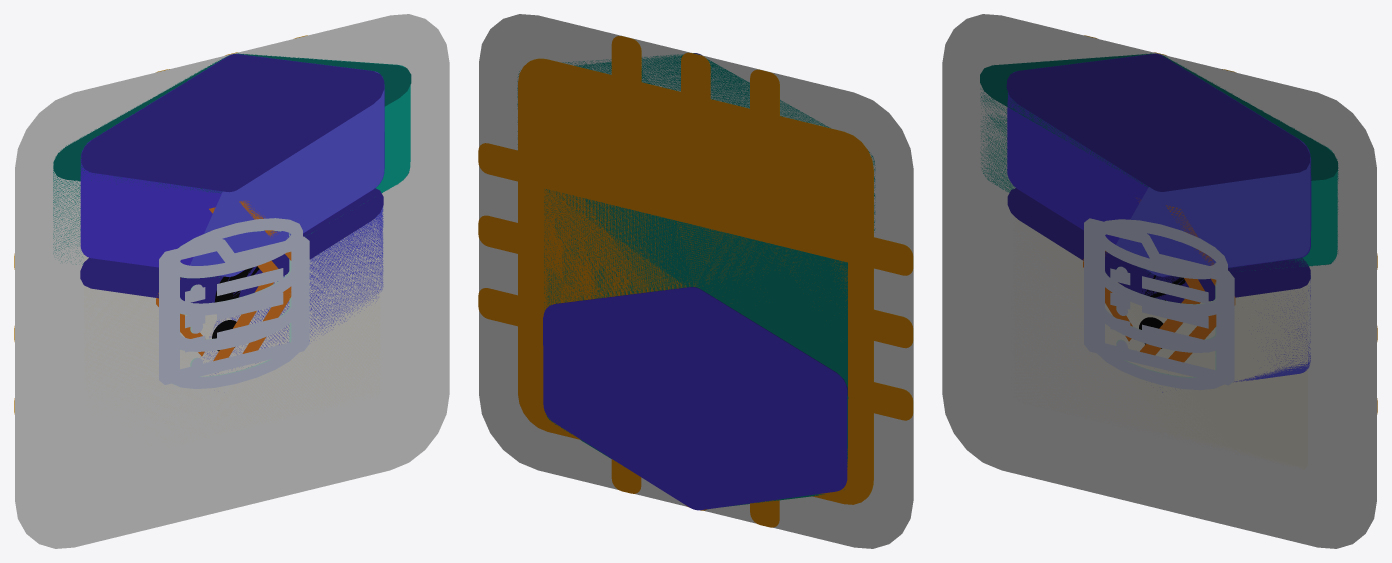
Rendered from icons.glb.
3 renders of one model, left to right at view 1: azimuth 30°, elevation 25°; view 2: azimuth 150°, elevation 25°; view 3: azimuth 330°, elevation 25°, orthographic.
Visible parts, largest first — view 1: all-unknown, cf-d1, cf-worker, cf-worker-kv, r2; view 2: cf-worker, cf-worker-kv, all-unknown, r2; view 3: all-unknown, cf-d1, cf-worker, cf-worker-kv, r2.
Boxes of the visible parts, box(x1,y1,x2,y2) form: all-unknown: box(15, 14, 449, 548); cf-d1: box(80, 54, 384, 388); cf-worker: box(14, 35, 380, 450); cf-worker-kv: box(80, 54, 370, 384); r2: box(53, 53, 411, 384); cf-worker: box(478, 36, 913, 527); cf-worker-kv: box(543, 53, 847, 510); all-unknown: box(479, 14, 913, 548); r2: box(517, 53, 875, 507); all-unknown: box(942, 14, 1376, 548); cf-d1: box(1006, 53, 1311, 392); cf-worker: box(1011, 35, 1377, 469); cf-worker-kv: box(1019, 53, 1311, 385); r2: box(980, 53, 1338, 377).
Bounding box in the file's own units: 1 × 1 × 0.01.
